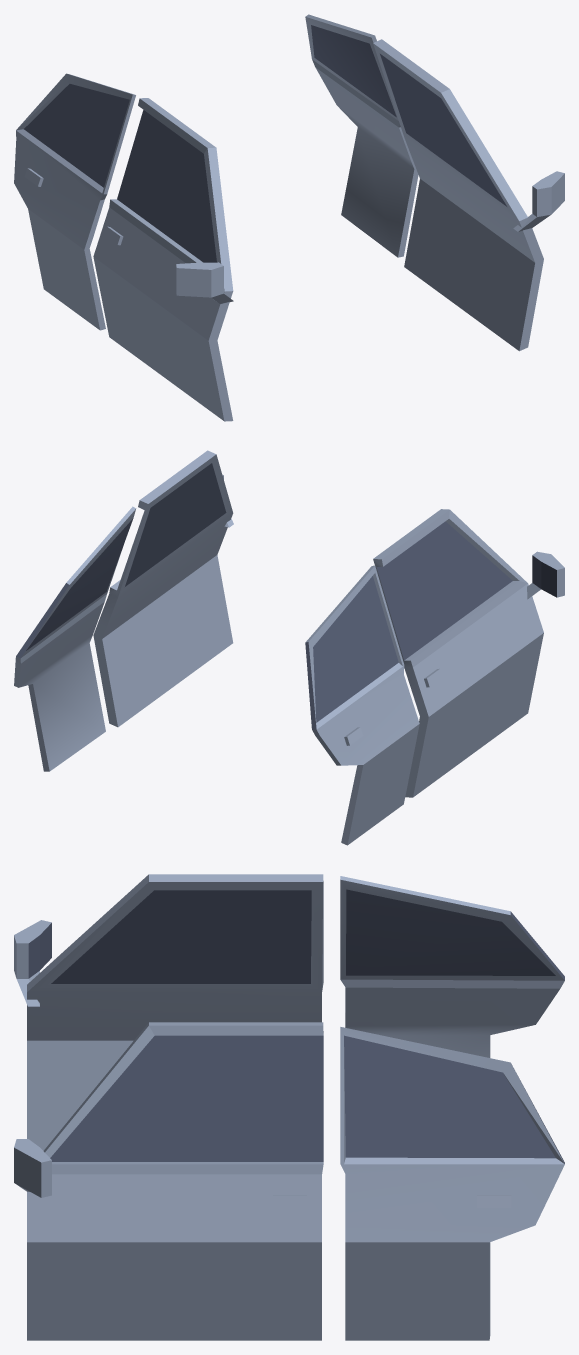
Rendered from Door_Side (1).fbx.
3 views of the same model, one above another, from view 1: azimuth 30°, elevation 25°; view 2: azimuth 150°, elevation 25°; view 3: azimuth 270°, elevation 25° (orthographic). The views are drawn at different scales.
Visible parts, largest first — view 1: Door1_Side, Door1_Side.001, Door2_Side, Door2_Side.001; view 2: Door1_Side, Door1_Side.001, Door2_Side, Door2_Side.001; view 3: Door1_Side.001, Door2_Side.001, Door1_Side, Door2_Side.
Boxes of the visible parts, left/top/right/bottom form: Door1_Side: left=93, top=98, right=233, bottom=421; Door1_Side.001: left=373, top=39, right=564, bottom=351; Door2_Side: left=14, top=73, right=135, bottom=330; Door2_Side.001: left=305, top=14, right=418, bottom=257; Door1_Side: left=373, top=509, right=564, bottom=797; Door1_Side.001: left=93, top=450, right=233, bottom=727; Door2_Side: left=305, top=565, right=419, bottom=845; Door2_Side.001: left=14, top=506, right=136, bottom=771; Door1_Side.001: left=14, top=1022, right=323, bottom=1340; Door2_Side.001: left=340, top=1027, right=564, bottom=1340; Door1_Side: left=14, top=874, right=323, bottom=1150; Door2_Side: left=340, top=876, right=564, bottom=1057.
Size of the model in its own units: 2.81 by 1.61 by 2.7.
